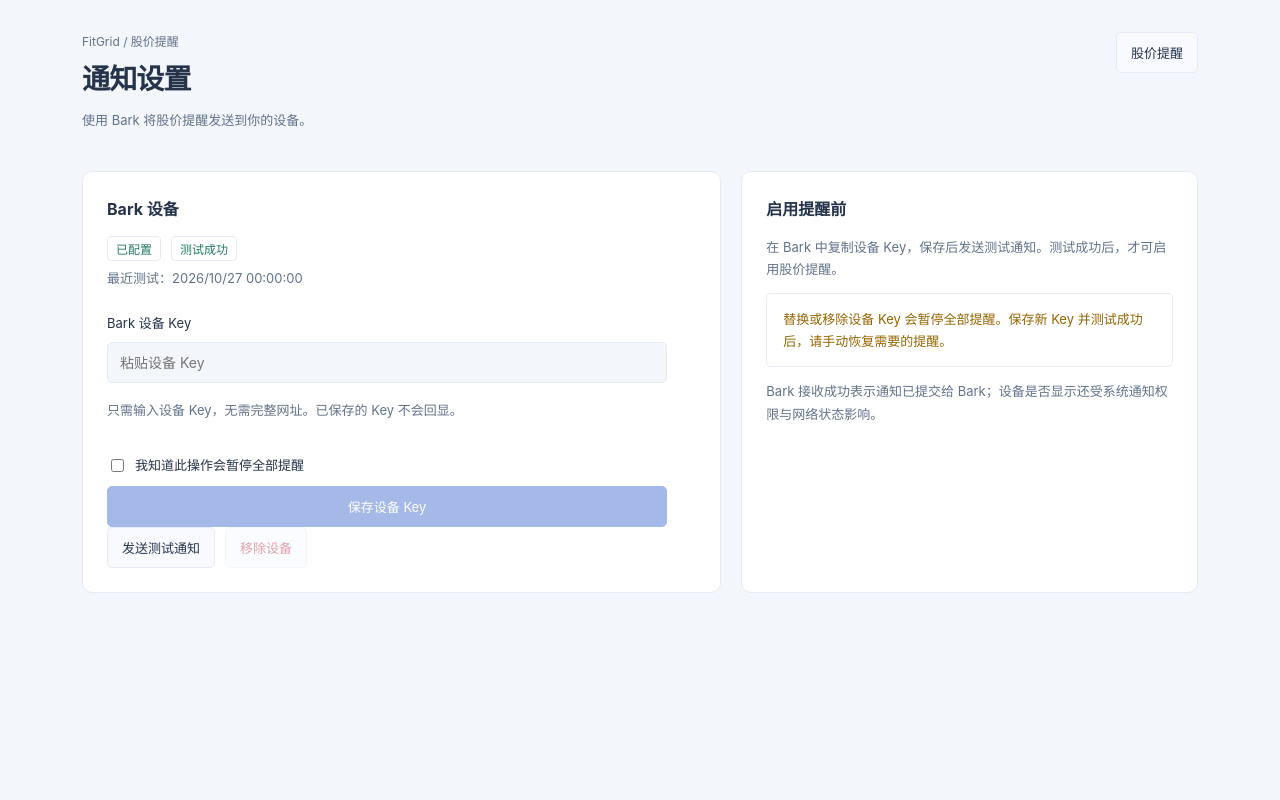
clears the secret after replacing the channel and explains paused alerts
Expected: the text "已配置" is shown, [107,236,161,261]
Expected: the text "替换或移除设备 Key 会暂停全部提醒。保存新 Key 并测试成功后，请手动恢复需要的提醒。" is shown, [766,293,1173,368]
Type "secret-key" into the password field labelled "Bark 设备 Key" at (387,363), box [107,342,667,383]
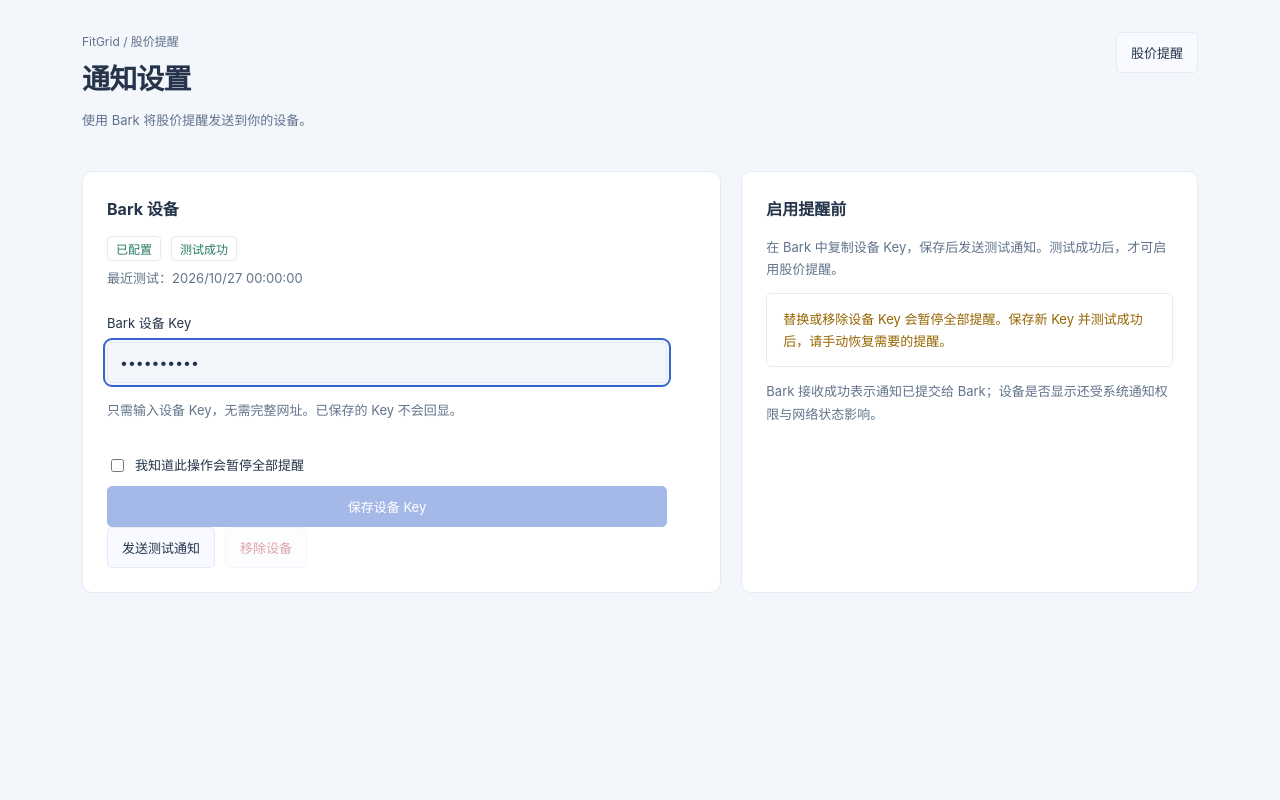
Click the checkbox labelled "我知道此操作会暂停全部提醒" at (118,466), box [111,459,124,472]
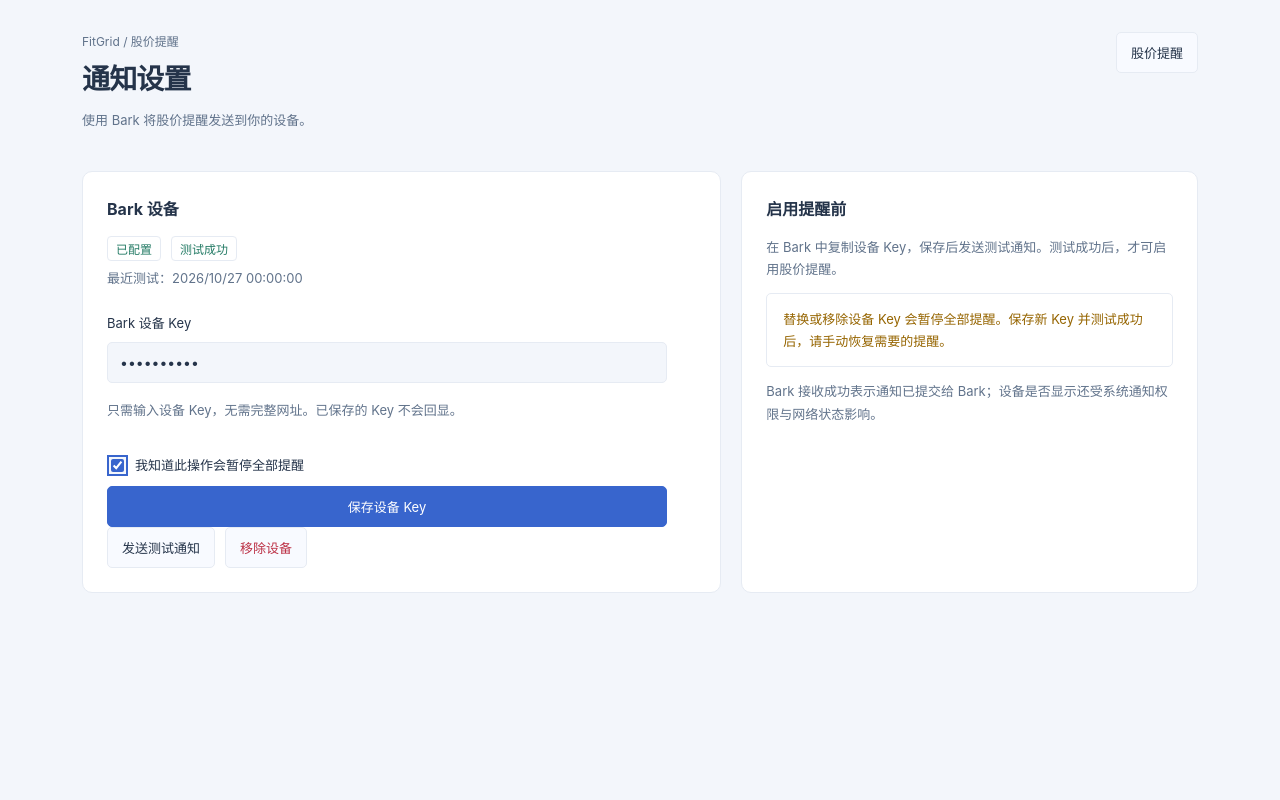
Click the button "保存设备 Key" at (387,507), box [107,486,667,527]
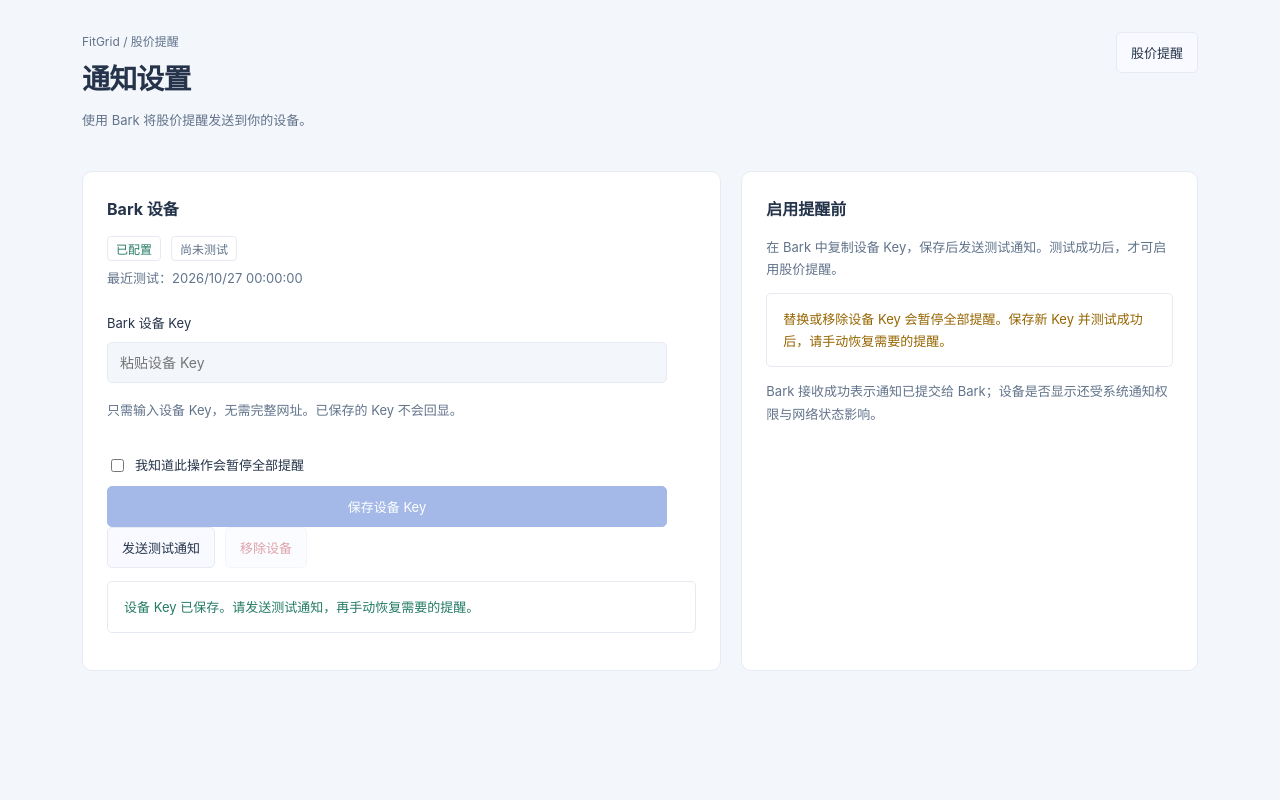
Expected: the password field labelled "Bark 设备 Key" is empty, [107,342,667,383]
Expected: the text "尚未测试" is shown, [171,236,237,261]
